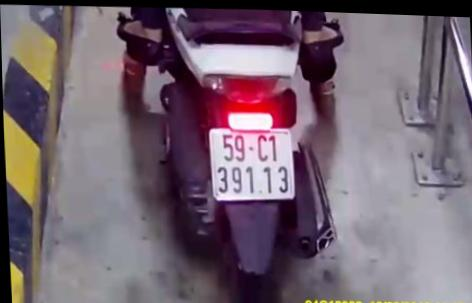LP: (205, 119, 298, 206)
